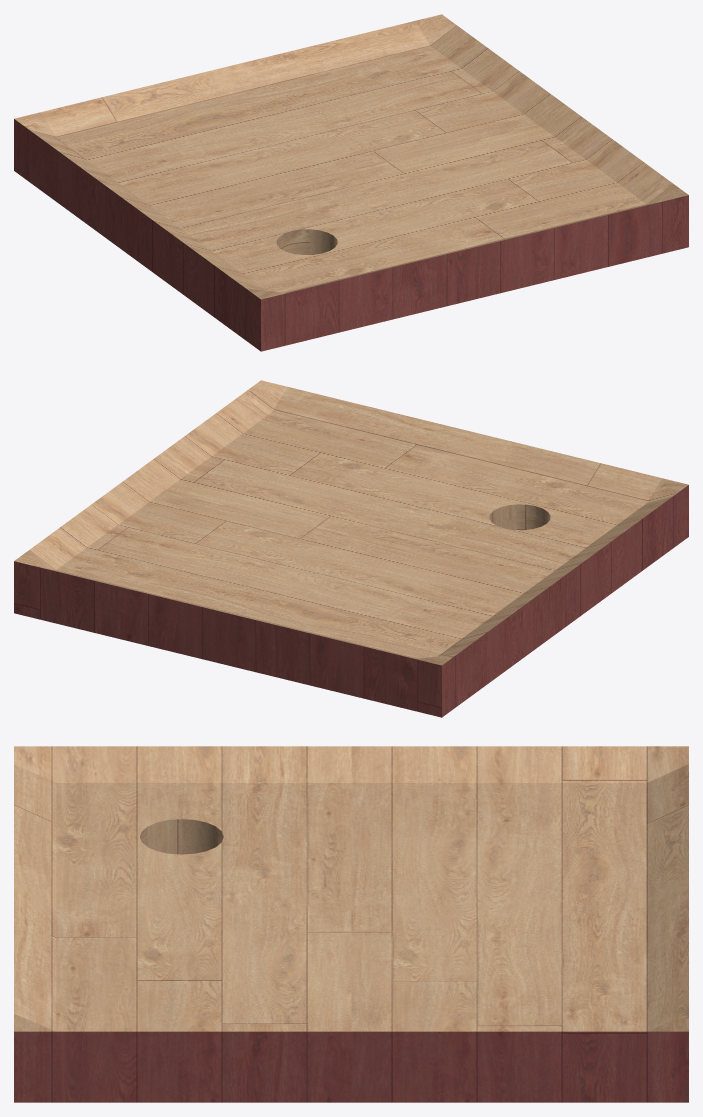
File: Plate 1.fbx
The picture shows the model from 3 angles, top to bottom: view 1: azimuth 30°, elevation 25°; view 2: azimuth 150°, elevation 25°; view 3: azimuth 270°, elevation 25°; orthographic projection. The views are drawn at different scales.
Visible parts, largest first — view 1: polySurface2; view 2: polySurface2; view 3: polySurface2.
Part boxes in pixels (x1=…): polySurface2: x1=14, y1=14, x2=688, y2=351; polySurface2: x1=14, y1=380, x2=688, y2=717; polySurface2: x1=14, y1=746, x2=688, y2=1102.
Size of the model in its own units: 34.56 by 4.02 by 34.56.
Materials: 1 (1 with a texture image).
